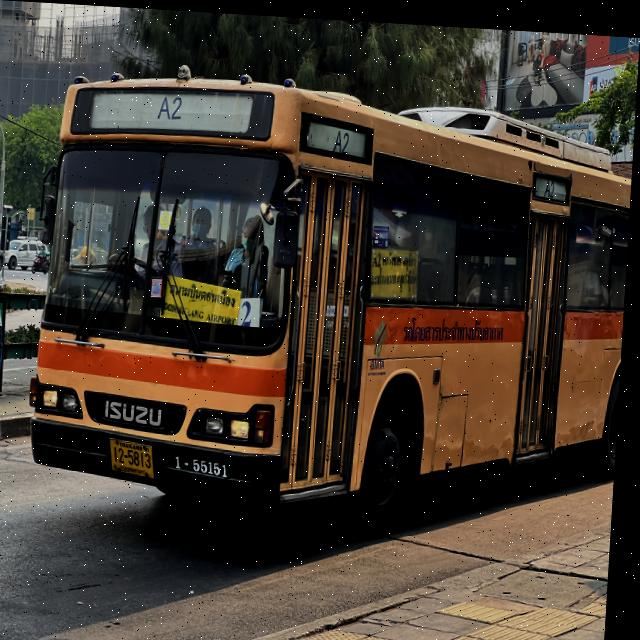BMTA-bus: (24, 55, 638, 557)
Bus-Line-Number: (152, 91, 190, 126)
Destination-Sign-Normal-Expressway: (165, 271, 245, 325)
